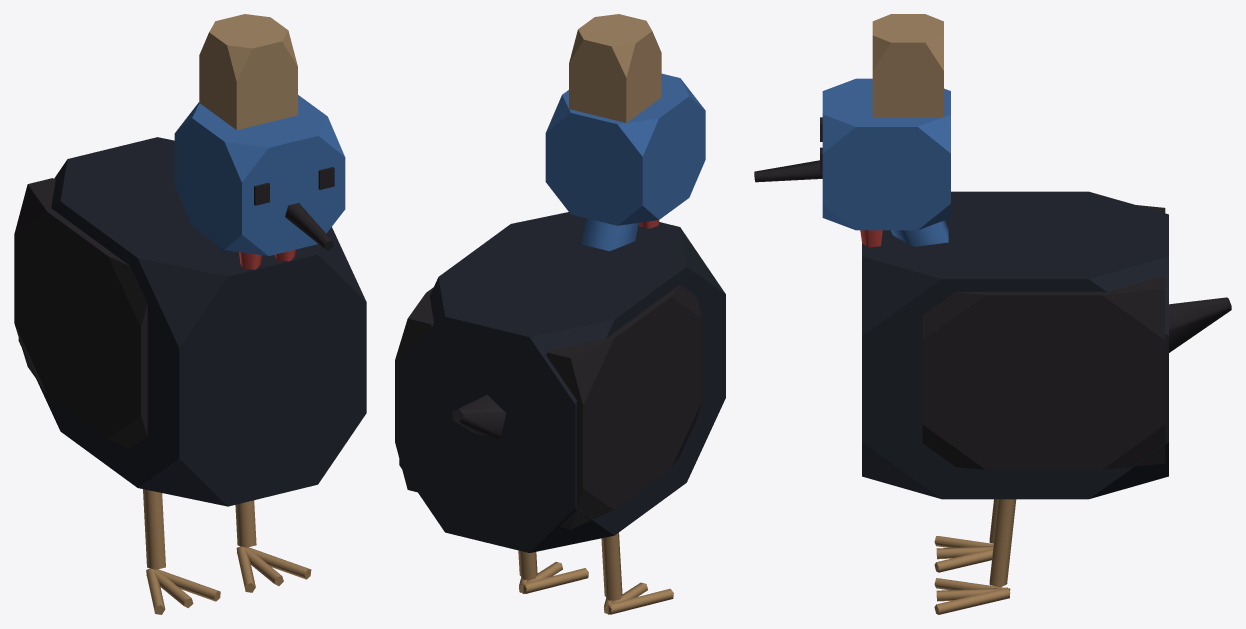
Rendered from original-cassowary.glb.
The picture shows the model from 3 angles, left to right: view 1: azimuth 30°, elevation 25°; view 2: azimuth 150°, elevation 25°; view 3: azimuth 270°, elevation 25°; orthographic projection. The views are drawn at different scales.
Parts seen in each view (by area): view 1: cassowary; view 2: cassowary; view 3: cassowary.
Part boxes in pixels (x1,y1,x2,y2): cassowary: (14,14,366,614); cassowary: (395,14,725,614); cassowary: (754,14,1231,614).
Size of the model in its own units: 0.62 by 1.71 by 1.34.
